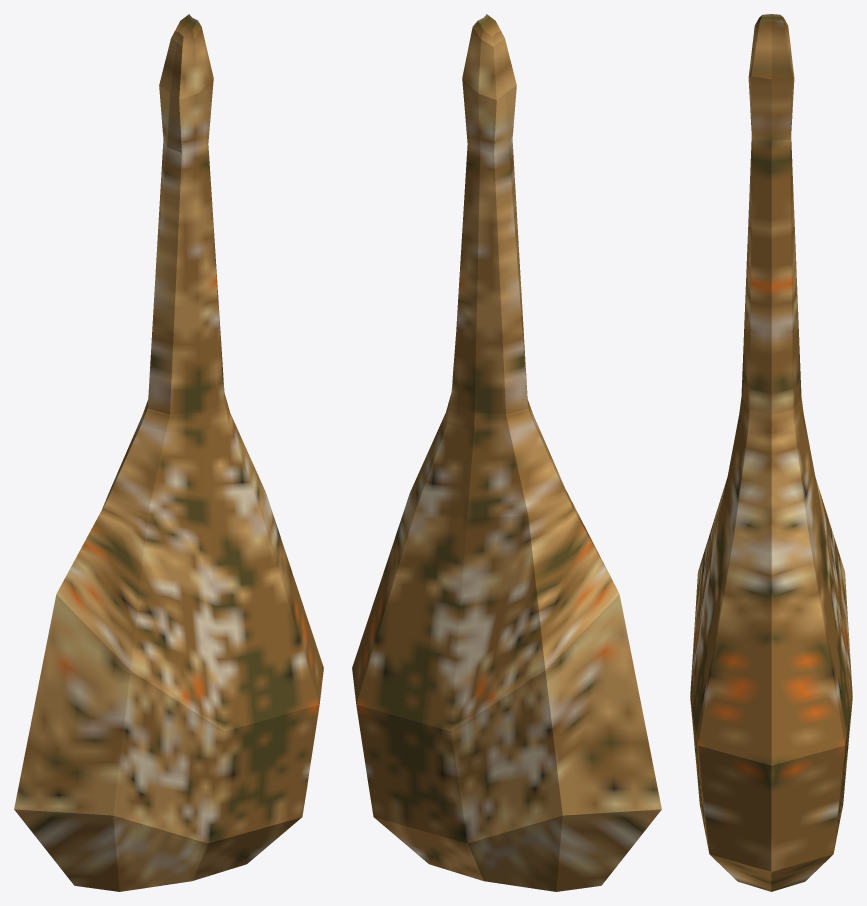
Rendered from SM_Dungeon_Food_Pig_leg.fbx.
The picture shows the model from 3 angles, left to right: view 1: azimuth 30°, elevation 25°; view 2: azimuth 150°, elevation 25°; view 3: azimuth 270°, elevation 25°; orthographic projection.
Parts seen in each view (by area): view 1: Cylinder.005; view 2: Cylinder.005; view 3: Cylinder.005.
Part boxes in pixels (x1,y1,x2,y2): Cylinder.005: (14,14,323,891); Cylinder.005: (352,14,661,891); Cylinder.005: (690,14,852,891).
Size of the model in its own units: 18.56 by 48.3 by 8.39.
